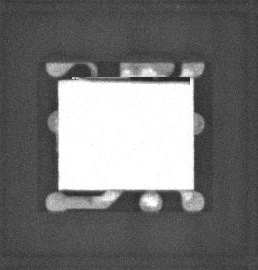DIE_BROKEN: (77, 76, 193, 85)
